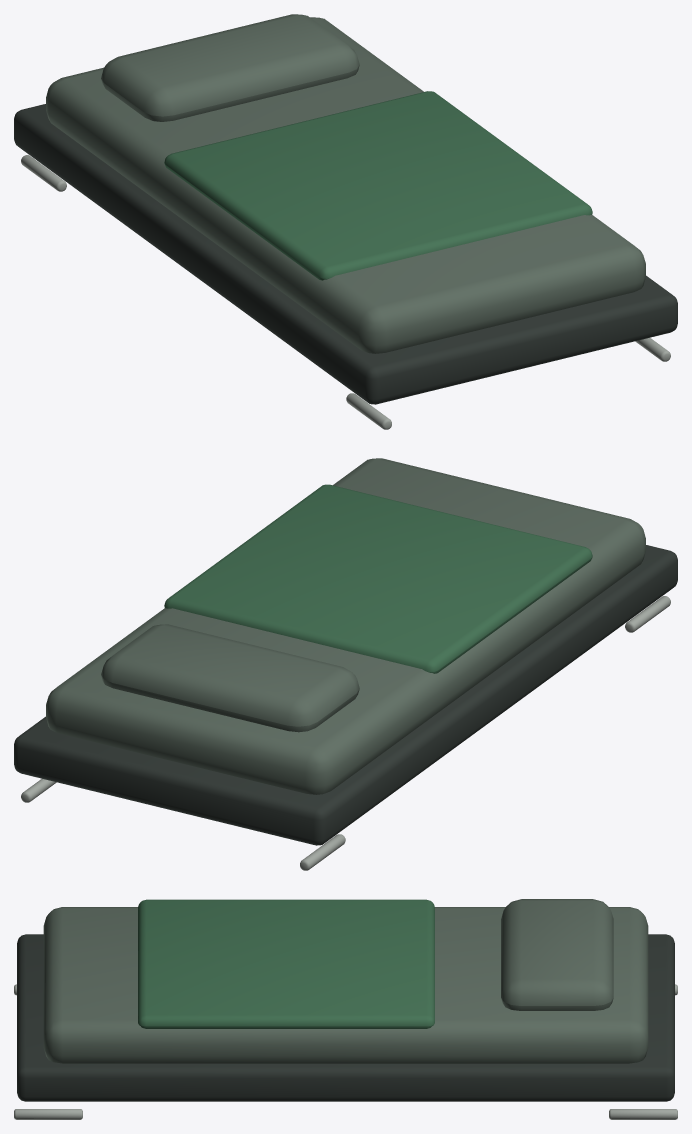
File: bed.glb
3 views of the same model, one above another, from view 1: azimuth 30°, elevation 25°; view 2: azimuth 150°, elevation 25°; view 3: azimuth 270°, elevation 25° (orthographic). The views are drawn at different scales.
Parts seen in each view (by area): view 1: Mattress, Blanket, Bed_Frame, Pillow, BedLeg.001, BedLeg.002; view 2: Mattress, Blanket, Bed_Frame, Pillow, BedLeg.002, BedLeg.001; view 3: Mattress, Blanket, Bed_Frame, Pillow, BedLeg.003, BedLeg.
Part boxes in pixels (x1,y1,x2,y2): Mattress: (46, 17, 645, 353); Blanket: (164, 91, 592, 280); Bed_Frame: (14, 104, 677, 404); Pillow: (101, 14, 359, 121); BedLeg.001: (21, 155, 66, 191); BedLeg.002: (346, 393, 391, 429); Mattress: (46, 458, 645, 794); Blanket: (164, 484, 592, 673); Bed_Frame: (14, 545, 677, 845); Pillow: (101, 624, 359, 732); BedLeg.002: (625, 596, 670, 632); BedLeg.001: (300, 834, 345, 870); Mattress: (43, 907, 648, 1063); Blanket: (138, 899, 434, 1028); Bed_Frame: (17, 934, 674, 1101); Pillow: (501, 899, 613, 1010); BedLeg.003: (609, 1109, 677, 1119); BedLeg: (14, 1109, 82, 1119).
Bounding box in the file's own units: 2.1 × 0.825 × 4.24.
